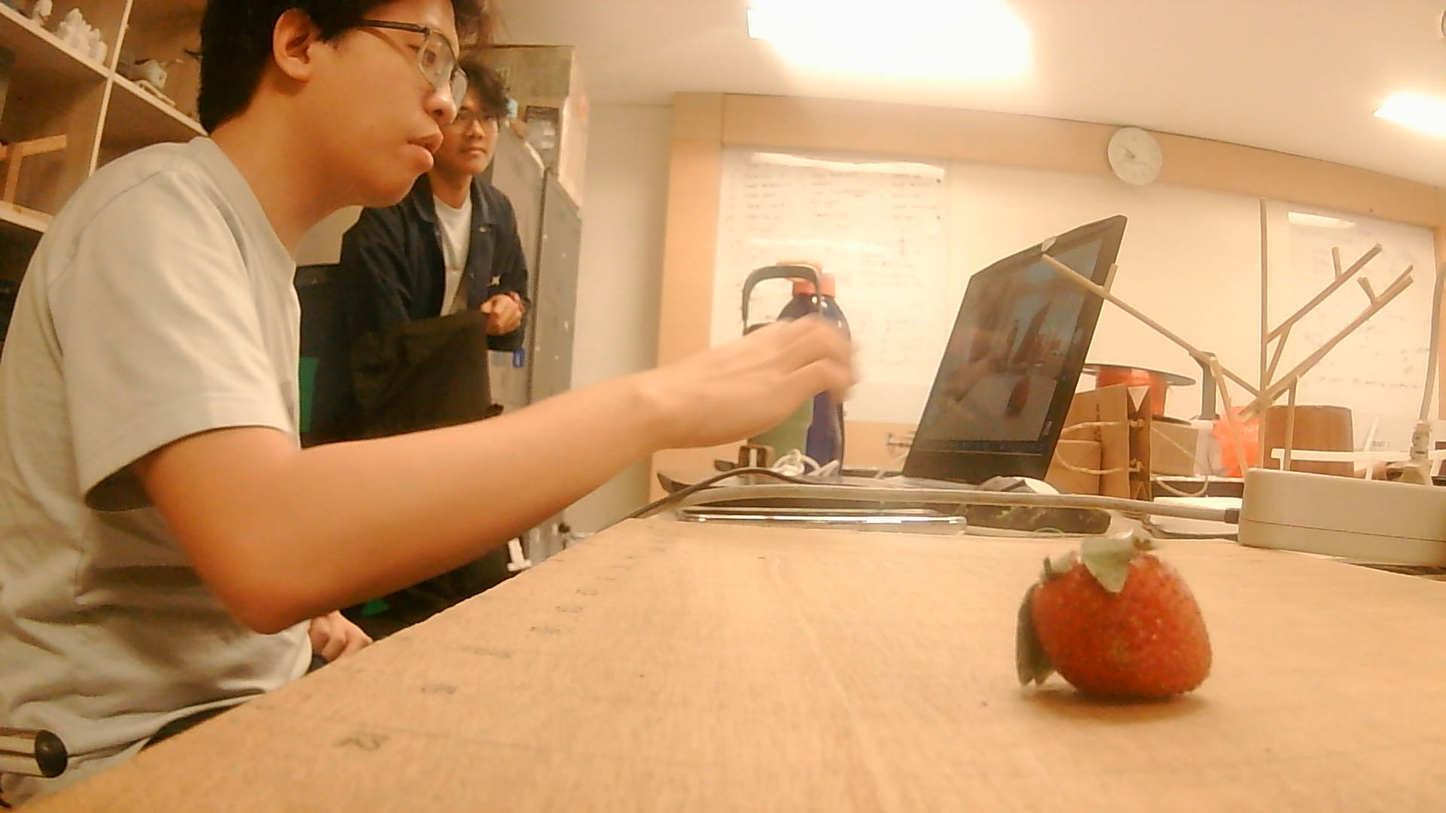strawberry: (1027, 540, 1219, 696)
